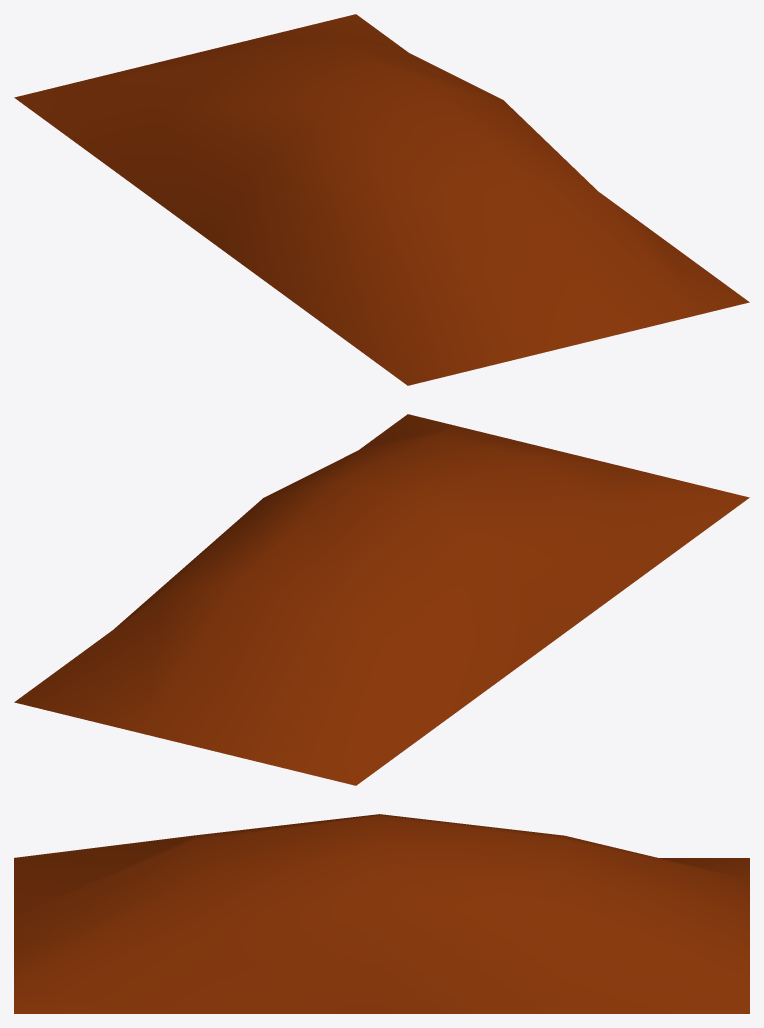
The model's file is DirtMound2.fbx.
3 views of the same model, one above another, from view 1: azimuth 30°, elevation 25°; view 2: azimuth 150°, elevation 25°; view 3: azimuth 270°, elevation 25° (orthographic). The views are drawn at different scales.
Parts seen in each view (by area): view 1: DirtMound; view 2: DirtMound; view 3: DirtMound.
Part boxes in pixels (x1,y1,x2,y2): DirtMound: (14, 14, 749, 385); DirtMound: (14, 414, 749, 785); DirtMound: (14, 814, 749, 1013).
Size of the model in its own units: 70.4 by 20.88 by 140.
